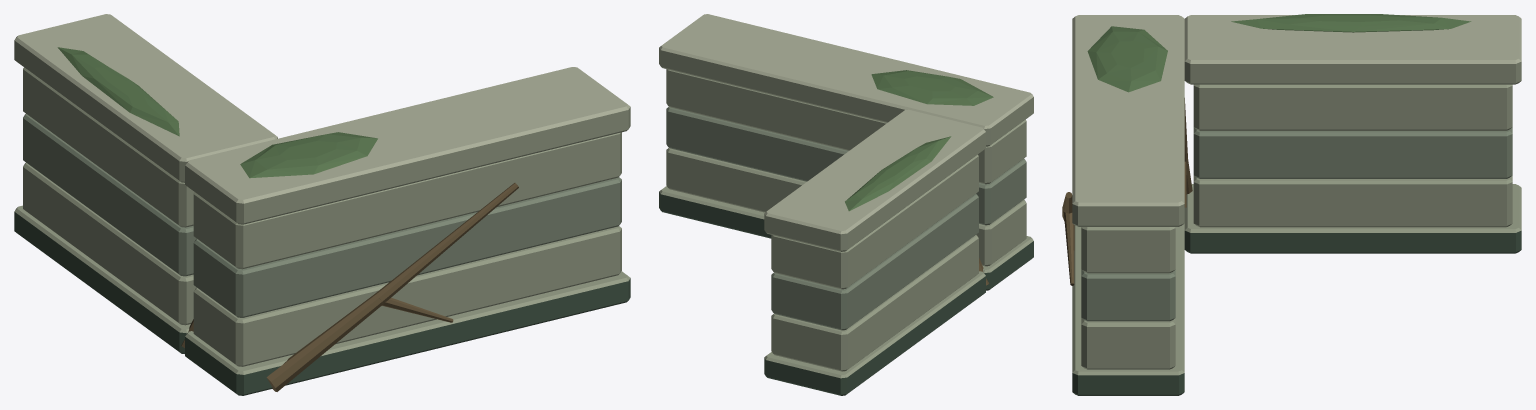
The model's file is wall-corner.glb.
3 renders of one model, left to right at view 1: azimuth 30°, elevation 25°; view 2: azimuth 150°, elevation 25°; view 3: azimuth 270°, elevation 25°, orthographic. The views are drawn at different scales.
Parts seen in each view (by area): view 1: wall-corner__body; view 2: wall-corner__body; view 3: wall-corner__body.
Boxes of the visible parts, <box> form: wall-corner__body: <box>14,14,630,395</box>; wall-corner__body: <box>659,14,1033,395</box>; wall-corner__body: <box>1062,14,1521,395</box>.
Bounding box in the file's own units: 2 × 0.9946 × 2.04.
